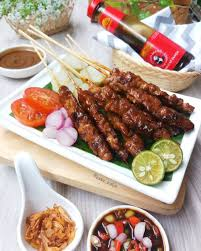sate: (25, 58, 195, 181)
